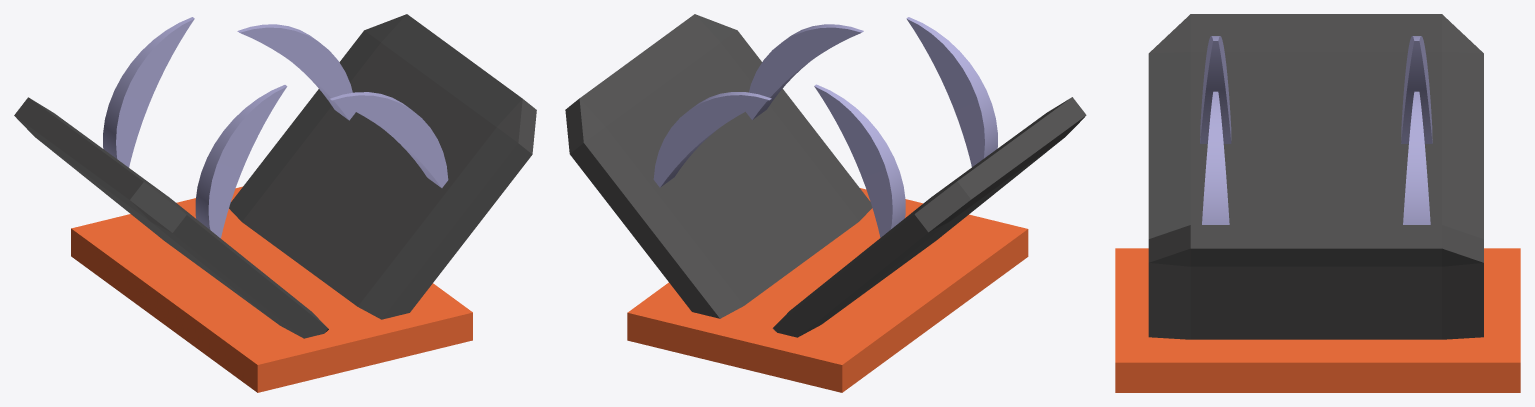
The model's file is trap.glb.
3 renders of one model, left to right at view 1: azimuth 30°, elevation 25°; view 2: azimuth 150°, elevation 25°; view 3: azimuth 270°, elevation 25°, orthographic. The views are drawn at different scales.
Visible parts, largest first — view 1: mergedBlocks(Clone); view 2: mergedBlocks(Clone); view 3: mergedBlocks(Clone).
Part boxes in pixels (box(x1,y1,x2,y2)): mergedBlocks(Clone): box(14, 14, 536, 392); mergedBlocks(Clone): box(565, 14, 1086, 392); mergedBlocks(Clone): box(1115, 14, 1520, 392).
Size of the model in its own units: 1.52 by 0.9734 by 1.21.
